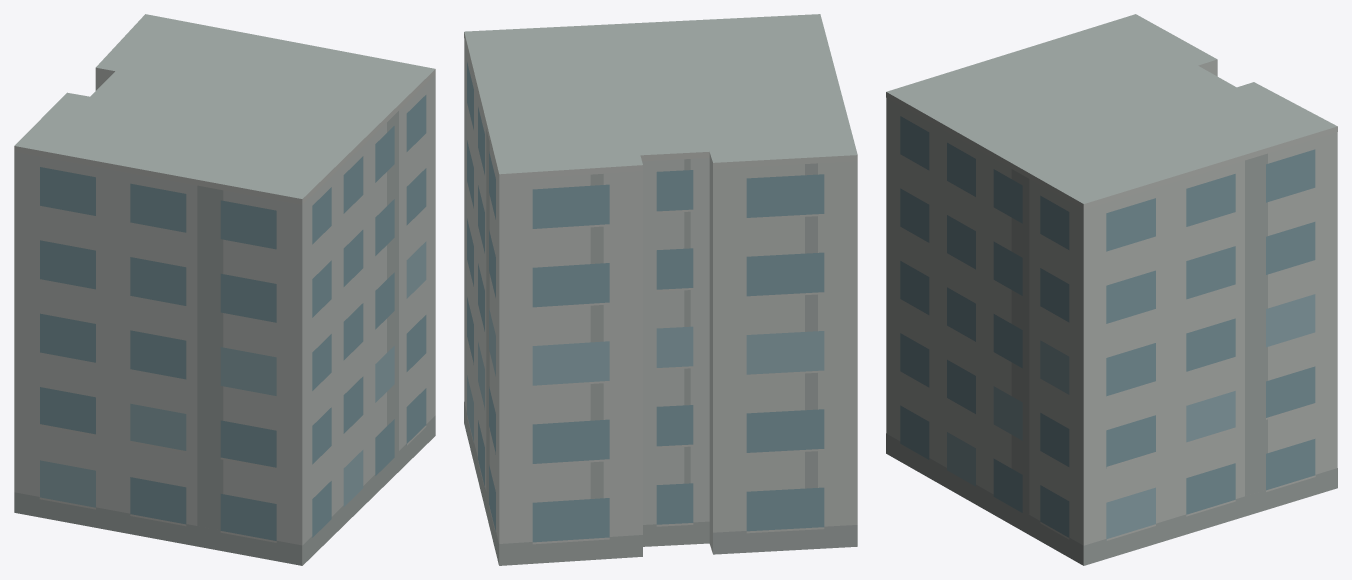
File: survey-upis-32561091.glb
The picture shows the model from 3 angles, left to right: view 1: azimuth 30°, elevation 25°; view 2: azimuth 150°, elevation 25°; view 3: azimuth 270°, elevation 25°; orthographic projection. The views are drawn at different scales.
Visible parts, largest first — view 1: survey-upis-32561091.tmp; view 2: survey-upis-32561091.tmp; view 3: survey-upis-32561091.tmp.
Boxes of the visible parts, x1,y1,x2,y2 form: survey-upis-32561091.tmp: (14, 14, 435, 565); survey-upis-32561091.tmp: (464, 14, 857, 565); survey-upis-32561091.tmp: (886, 14, 1337, 565).
Size of the model in its own units: 17.37 by 15.4 by 17.43.
